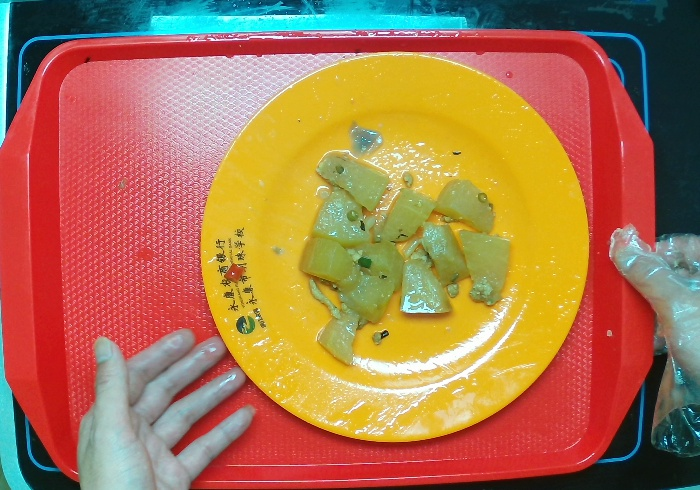YKMZ-Ju_Se_Mian_Pan: (196, 50, 589, 443)
